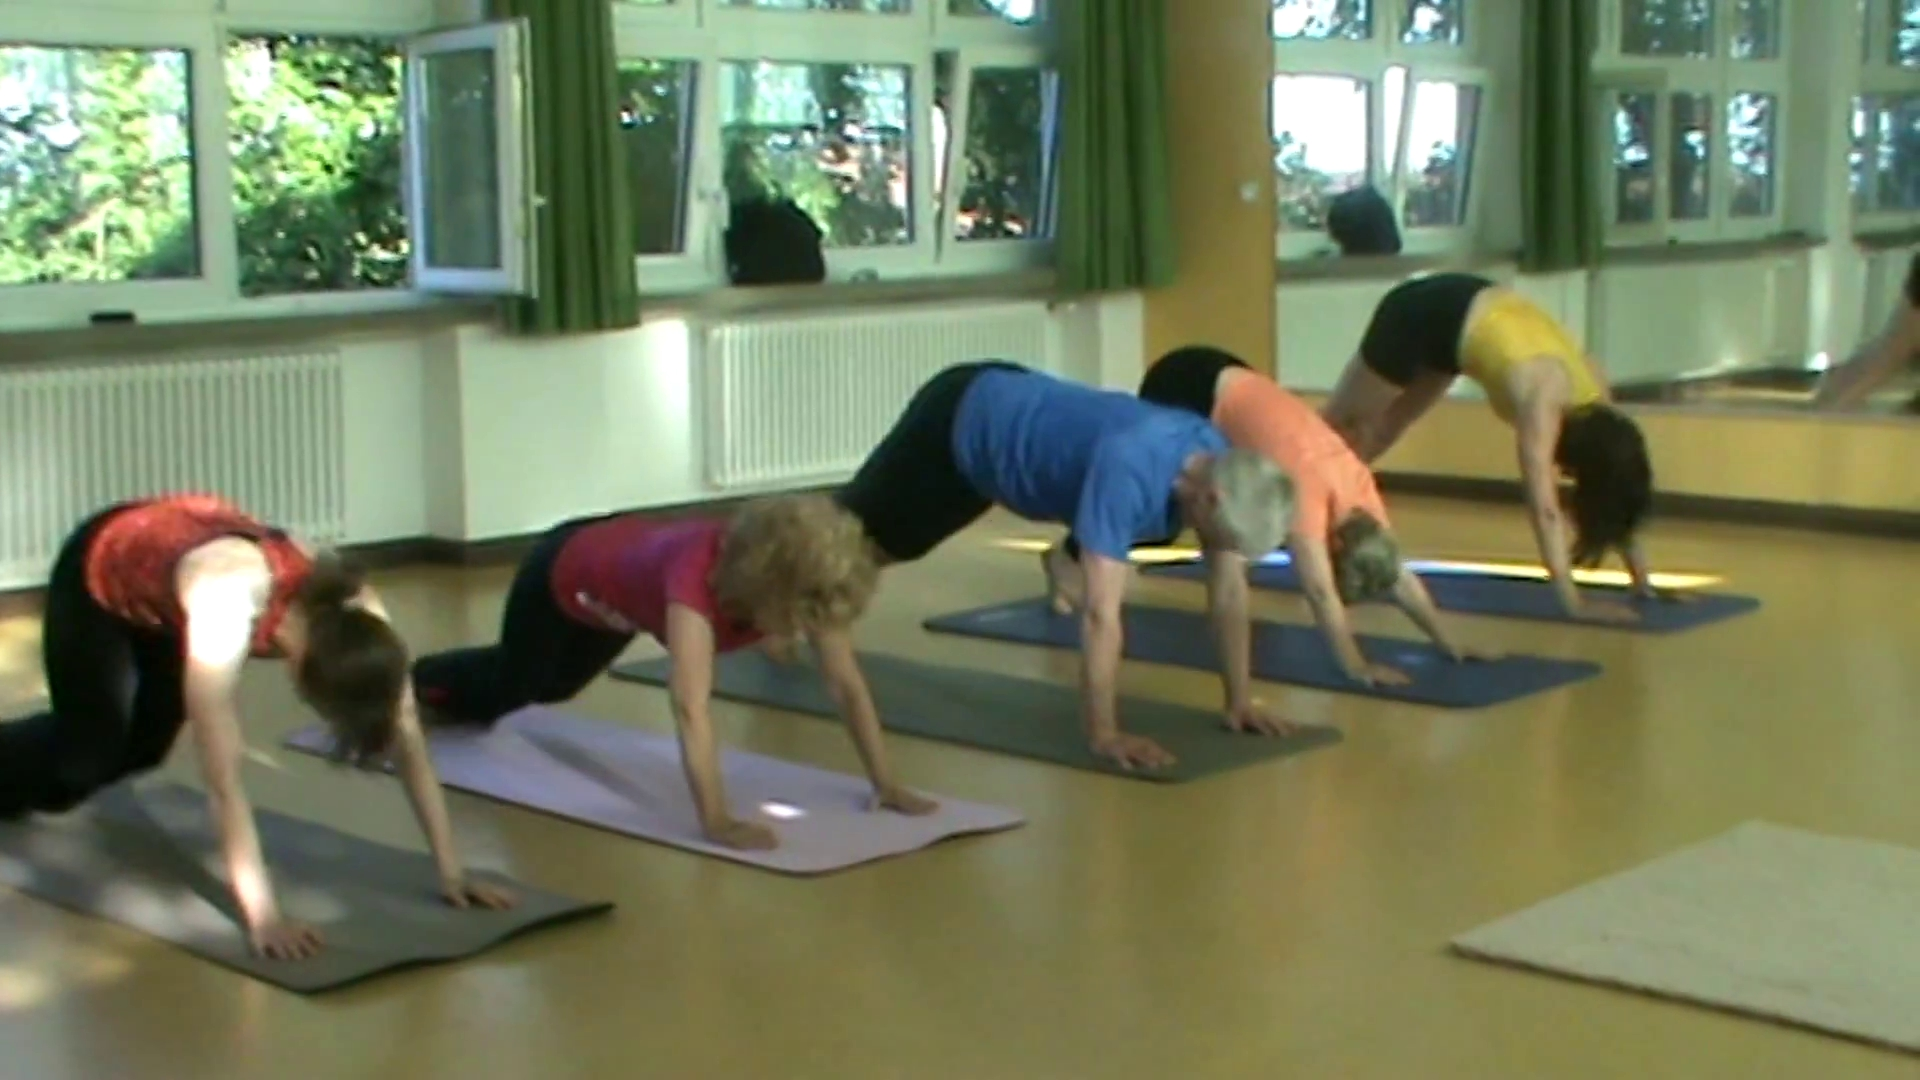person: (1, 488, 518, 962), (834, 357, 1302, 772), (412, 494, 938, 851), (1039, 344, 1506, 691), (1318, 272, 1701, 625)
